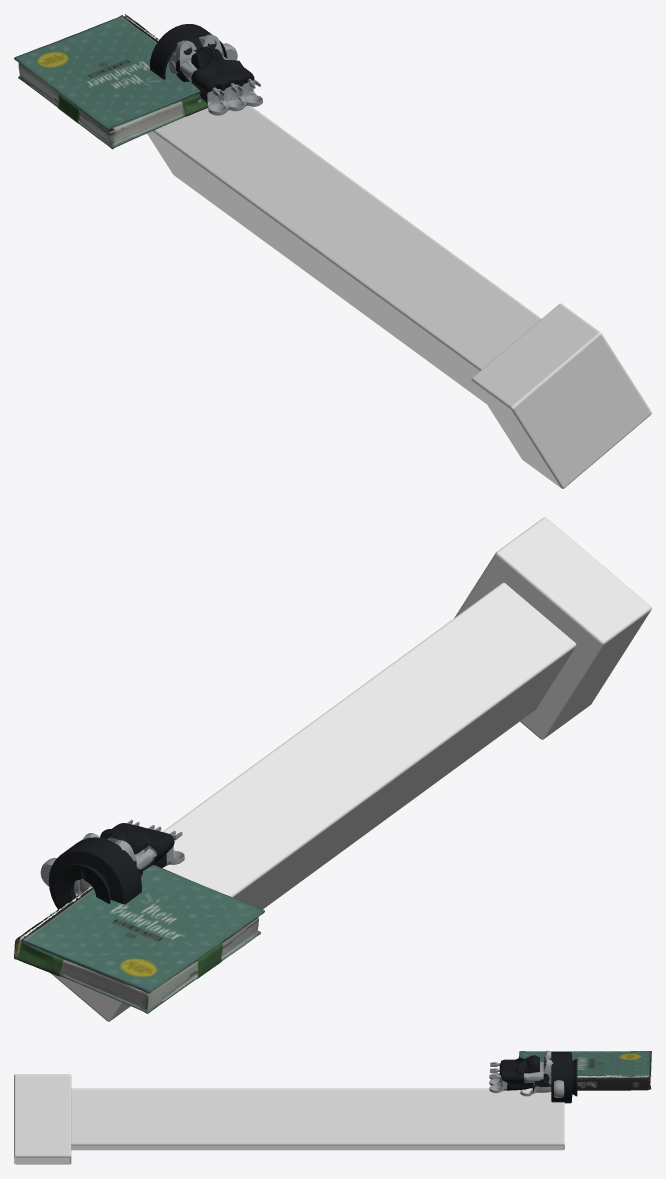
Rendered from notebook.glb.
3 renders of one model, top to bottom at view 1: azimuth 30°, elevation 25°; view 2: azimuth 150°, elevation 25°; view 3: azimuth 270°, elevation 25°, orthographic. The views are drawn at different scales.
Parts seen in each view (by area): view 1: s_stem, s_cap, o_1_1, o_0_0, h_right_8_36, h_left_7_0, h_left_8_1, h_right_8_35, h_left_8_2; view 2: s_stem, s_cap, o_1_1, o_0_0, h_left_7_0, h_right_8_35, h_right_8_36; view 3: s_stem, s_cap, o_1_1, o_0_0, h_left_7_0, h_left_8_1, h_left_8_2, h_right_8_35, h_right_8_36.
Part boxes in pixels (x1,y1,x2,y2): s_stem: (147,105,541,403); s_cap: (471,303,651,488); o_1_1: (14,15,200,129); o_0_0: (18,14,207,149); h_right_8_36: (169,40,244,115); h_left_7_0: (149,24,227,79); h_left_8_1: (175,36,254,86); h_right_8_35: (187,38,238,103); h_left_8_2: (169,34,262,111); s_stem: (50,582,576,1021); s_cap: (454,517,651,739); o_1_1: (20,865,264,993); o_0_0: (14,886,260,1013); h_left_7_0: (48,837,141,909); h_right_8_35: (102,826,174,870); h_right_8_36: (107,826,184,869); s_stem: (71,1088,564,1150); s_cap: (14,1074,71,1164); o_1_1: (519,1051,651,1077); o_0_0: (577,1060,651,1090); h_left_7_0: (551,1052,577,1103); h_left_8_1: (499,1055,545,1090); h_left_8_2: (489,1058,553,1093); h_right_8_35: (499,1056,551,1088); h_right_8_36: (489,1050,552,1085).
Size of the model in its own units: 0.2549 by 0.2236 by 1.11.
Materials: 5 (2 with a texture image).
